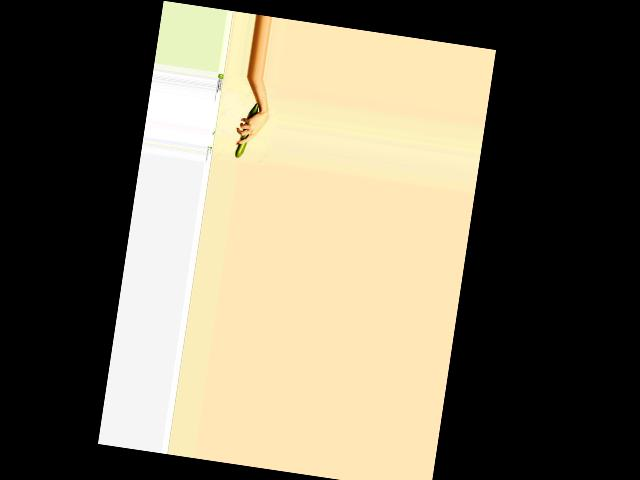cucumber: (234, 100, 258, 159)
